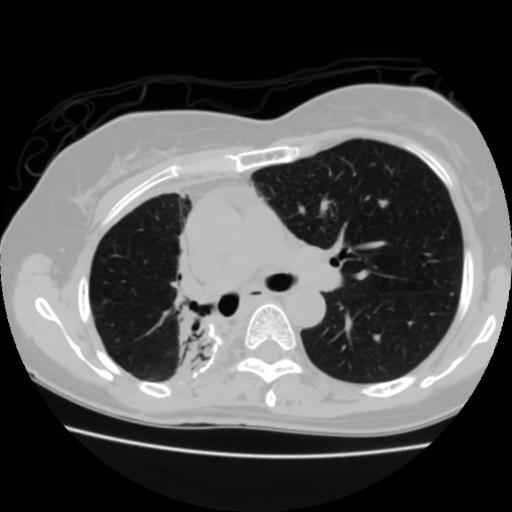nodule: (375, 194, 392, 211)
